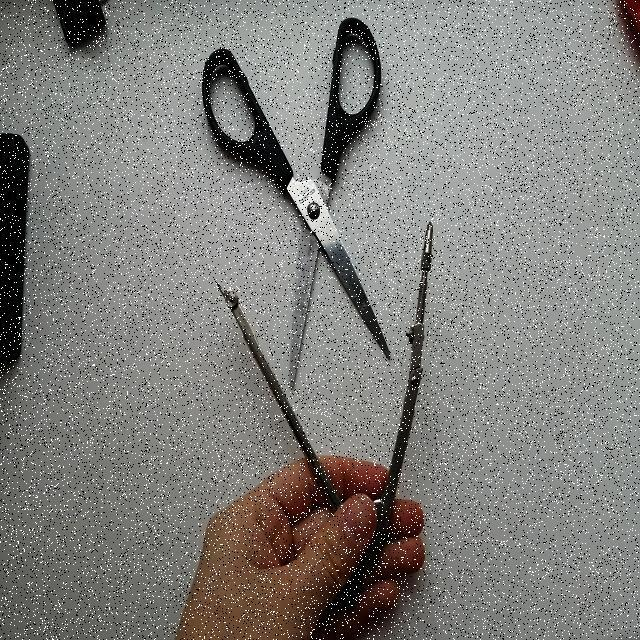scissors: (181, 1, 400, 401)
